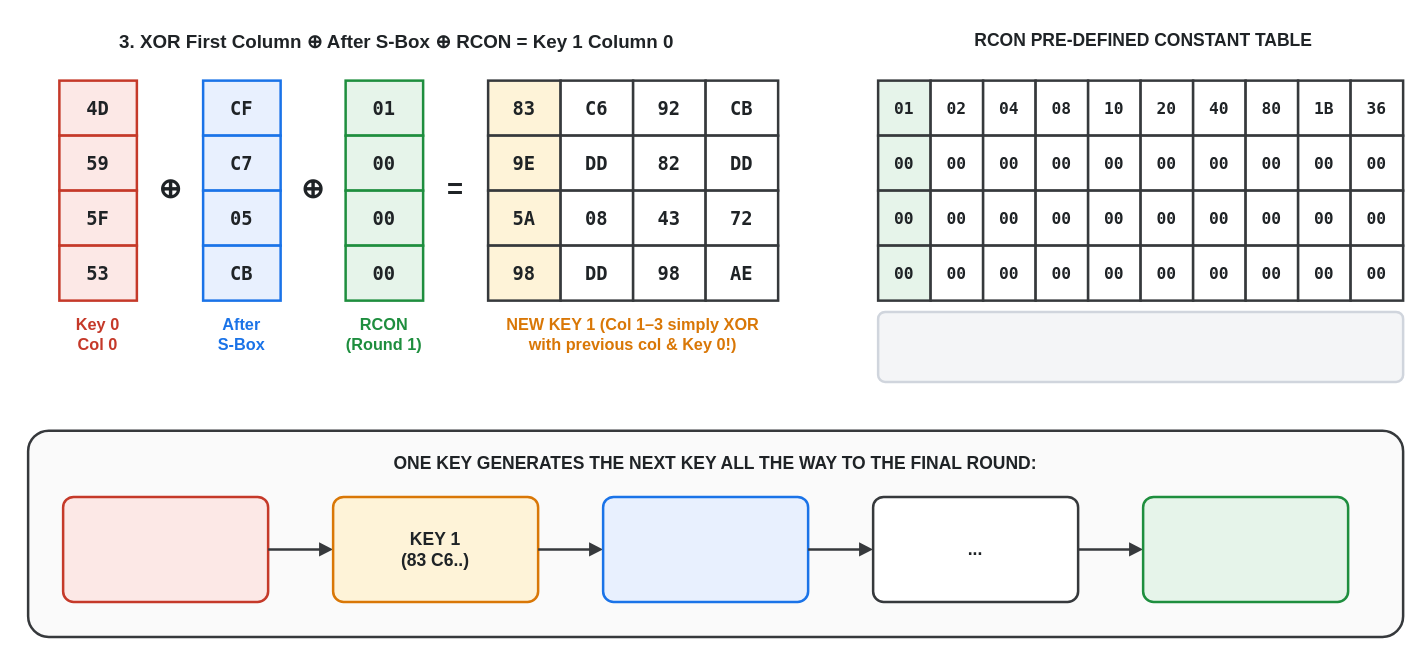
Some shapes in this 1425 by 659 pixel diagram are drawn without their labels. The centre of each missing label's shape, as x and y in pixels:
"Each round uses the next RCON column so every Round Key stays unique!" goes at [1140,346].
"KEY 0 (Original)" goes at [165,548].
"KEY 10 / 14 (Final Round)" goes at [1245,548].
"KEY 2 (Next)" goes at [705,548].
